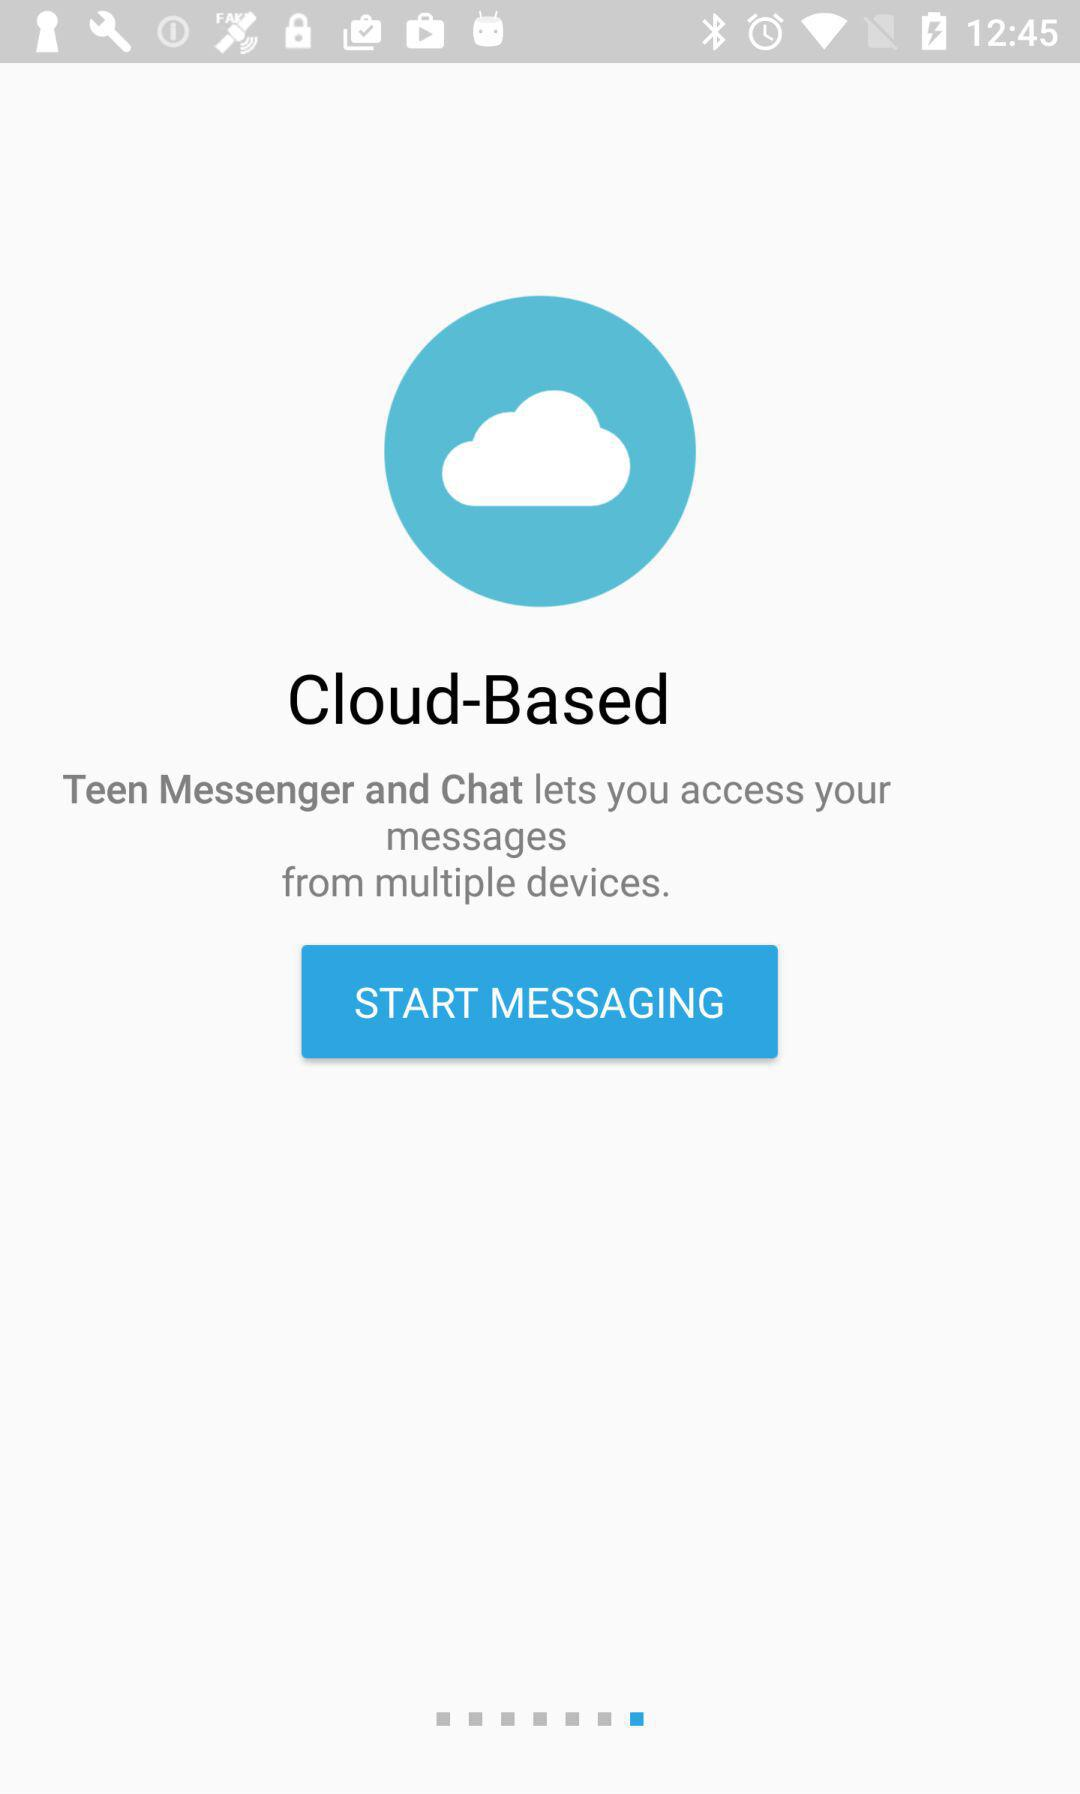Image: (384, 295, 696, 607)
PageIndicator: (436, 1709, 646, 1727)
Text: (63, 774, 893, 906), (290, 671, 667, 728)
TextButton: (301, 944, 779, 1058)
UpperTaskBar: (1, 1, 1080, 64)
